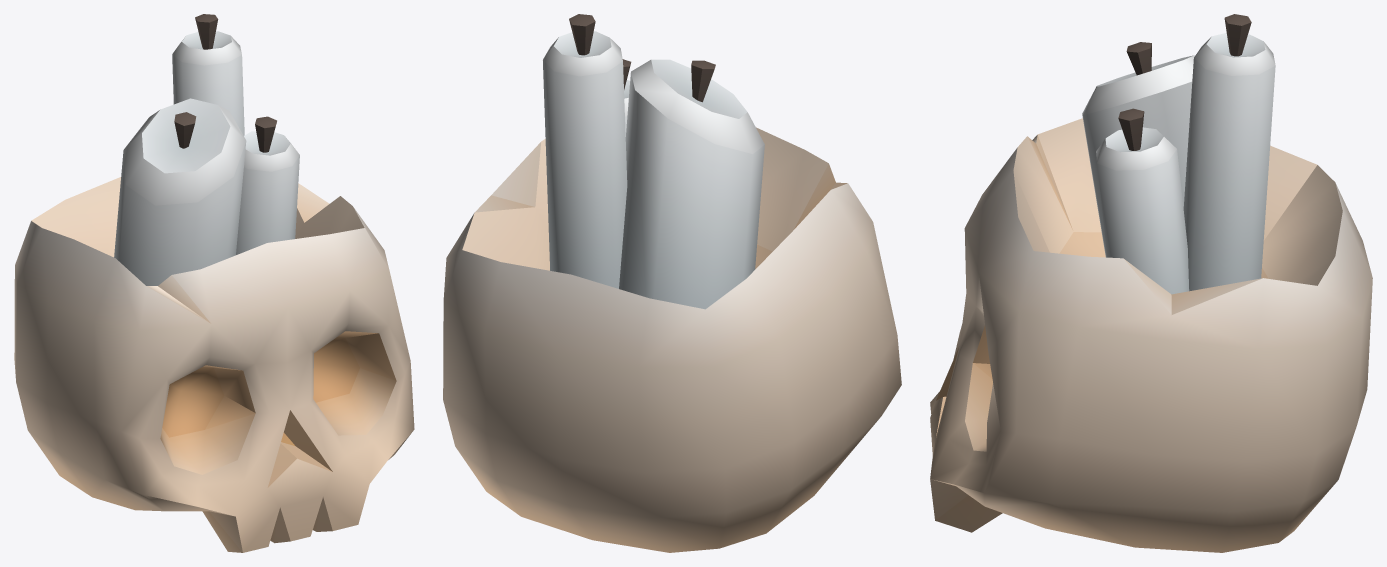
File: skull_candle.glb
3 renders of one model, left to right at view 1: azimuth 30°, elevation 25°; view 2: azimuth 150°, elevation 25°; view 3: azimuth 270°, elevation 25°, orthographic. The views are drawn at different scales.
Visible parts, largest first — view 1: skull_candle; view 2: skull_candle; view 3: skull_candle.
Part boxes in pixels (x1=…): skull_candle: x1=14, y1=14, x2=414, y2=552; skull_candle: x1=443, y1=14, x2=901, y2=552; skull_candle: x1=930, y1=14, x2=1372, y2=552.
Size of the model in its own units: 0.9176 by 1.19 by 0.9361.
Materials: 1 (1 with a texture image).
